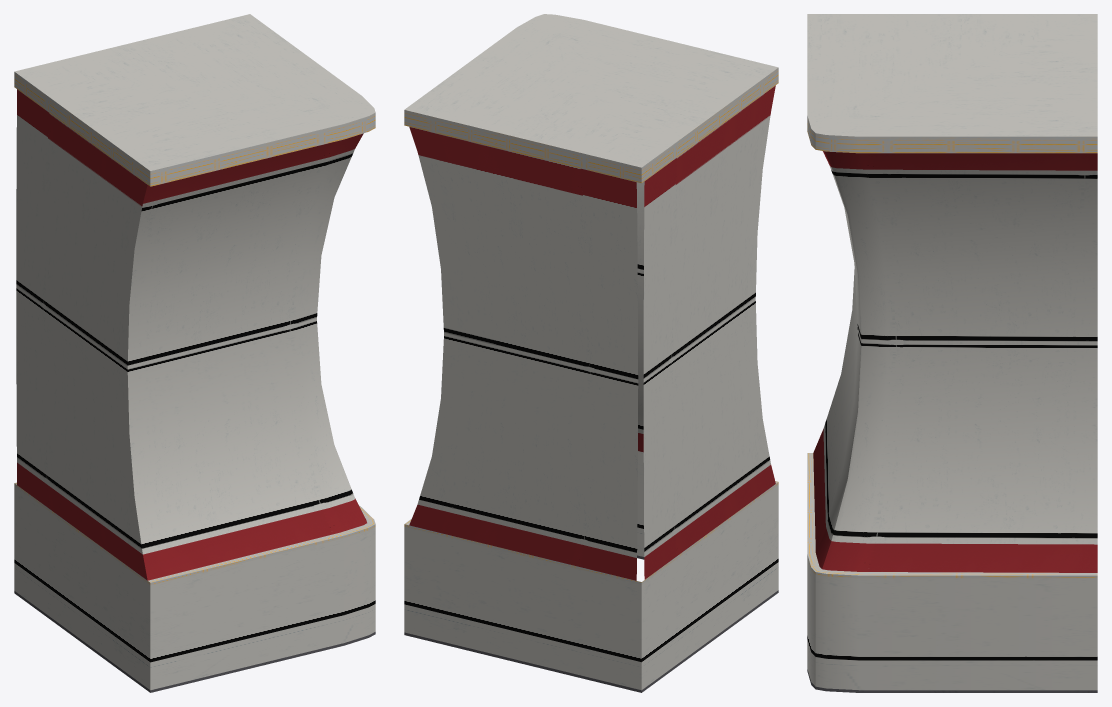
The model's file is G_Env_Arch_Wall_05_CornerEdge.fbx.
3 renders of one model, left to right at view 1: azimuth 30°, elevation 25°; view 2: azimuth 150°, elevation 25°; view 3: azimuth 270°, elevation 25°, orthographic. The views are drawn at different scales.
Visible parts, largest first — view 1: G_Env_Arch_Wall_05_CornerEdge; view 2: G_Env_Arch_Wall_05_CornerEdge; view 3: G_Env_Arch_Wall_05_CornerEdge.
Part boxes in pixels (x1,y1,x2,y2): G_Env_Arch_Wall_05_CornerEdge: (14,14,375,692); G_Env_Arch_Wall_05_CornerEdge: (404,14,778,692); G_Env_Arch_Wall_05_CornerEdge: (807,14,1097,692).
Bounding box in the file's own units: 426 × 900 × 426.
